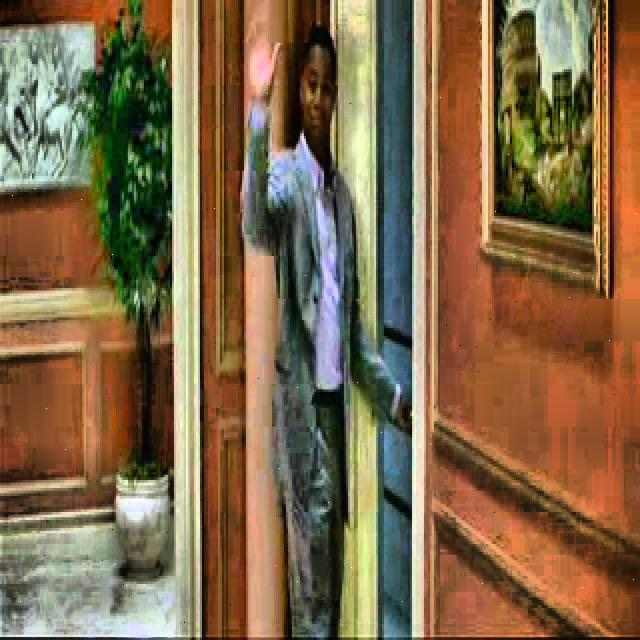T: (223, 1, 422, 640)
